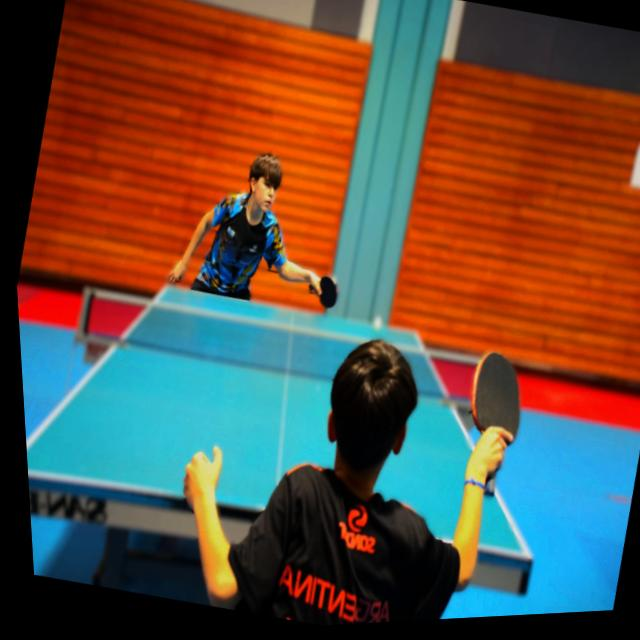TT Net: (70, 284, 509, 421)
TT Racket: (461, 341, 536, 455), (315, 272, 342, 312)
TT Table: (26, 282, 532, 560)
